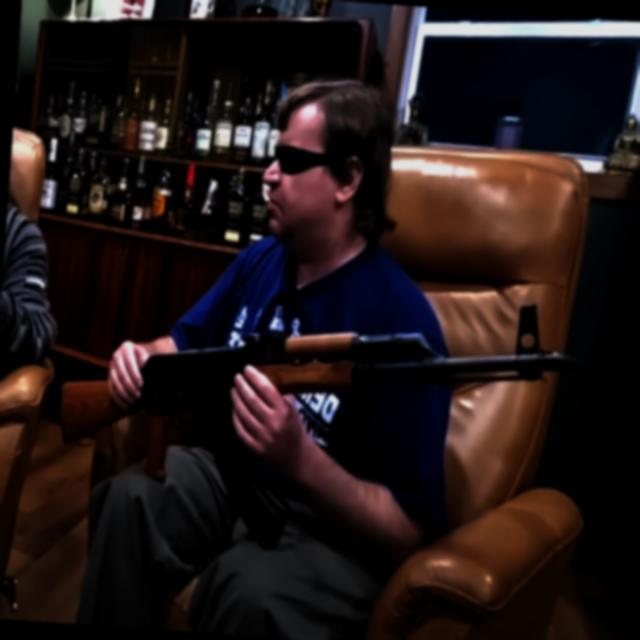ak: (44, 260, 586, 581)
